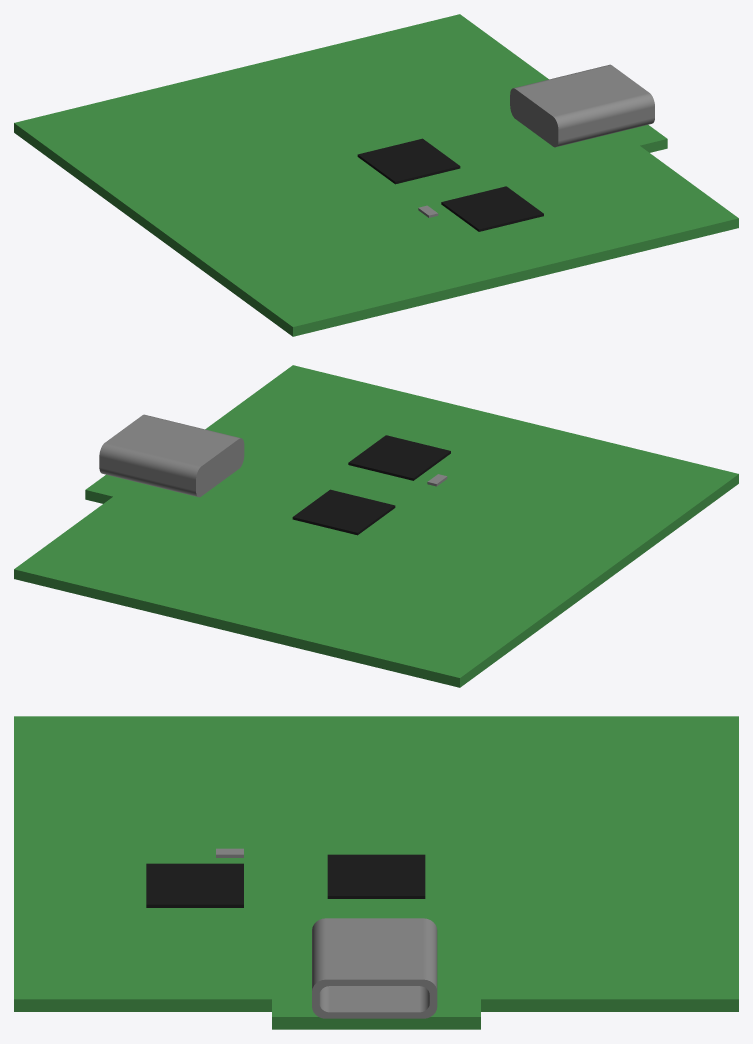
File: PCB.obj
3 renders of one model, top to bottom at view 1: azimuth 30°, elevation 25°; view 2: azimuth 150°, elevation 25°; view 3: azimuth 270°, elevation 25°, orthographic. The views are drawn at different scales.
Visible parts, largest first — view 1: 본체1, 본체2, 본체4, 본체7; view 2: 본체1, 본체2, 본체4, 본체7; view 3: 본체1, 본체2, 본체4, 본체7.
Part boxes in pixels (x1,y1,x2,y2): 본체1: (14, 14, 738, 336); 본체2: (510, 64, 654, 147); 본체4: (357, 138, 460, 184); 본체7: (441, 186, 543, 231); 본체1: (14, 365, 738, 687); 본체2: (99, 414, 244, 497); 본체4: (292, 489, 395, 535); 본체7: (348, 435, 450, 480); 본체1: (14, 716, 738, 1029); 본체2: (312, 918, 437, 1018); 본체4: (327, 854, 425, 898); 본체7: (146, 863, 243, 907).
Size of the model in its own units: 51.3 by 5.19 by 52.
